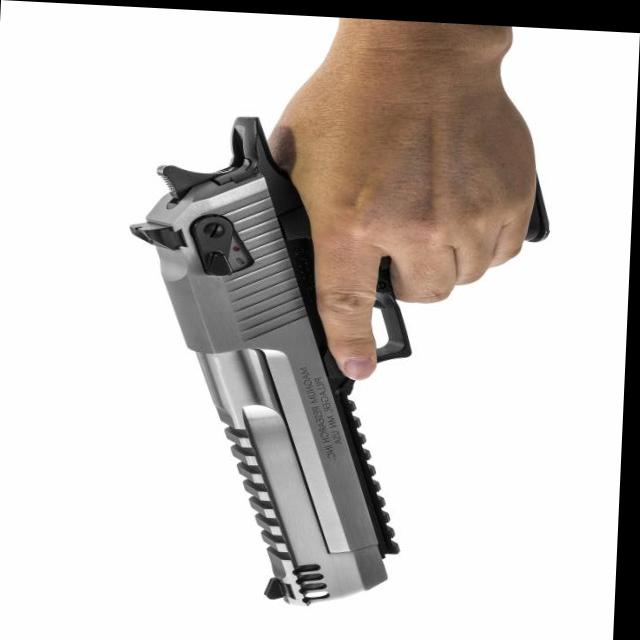handgun: (114, 72, 584, 623)
